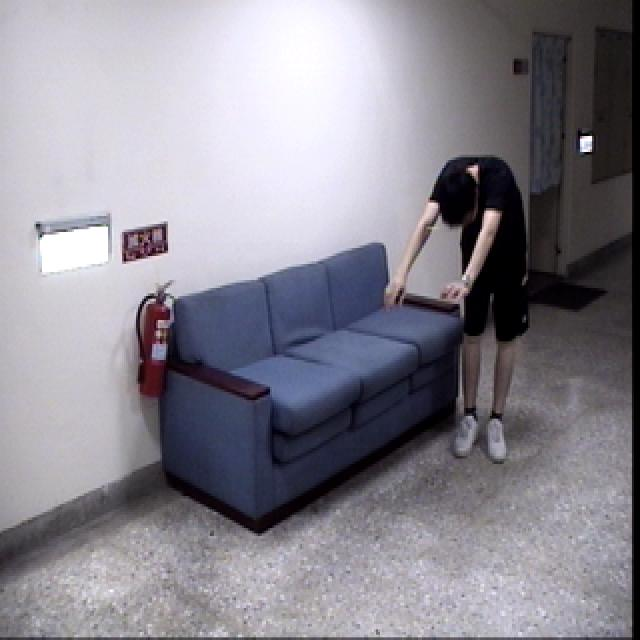bend: (381, 147, 537, 466)
